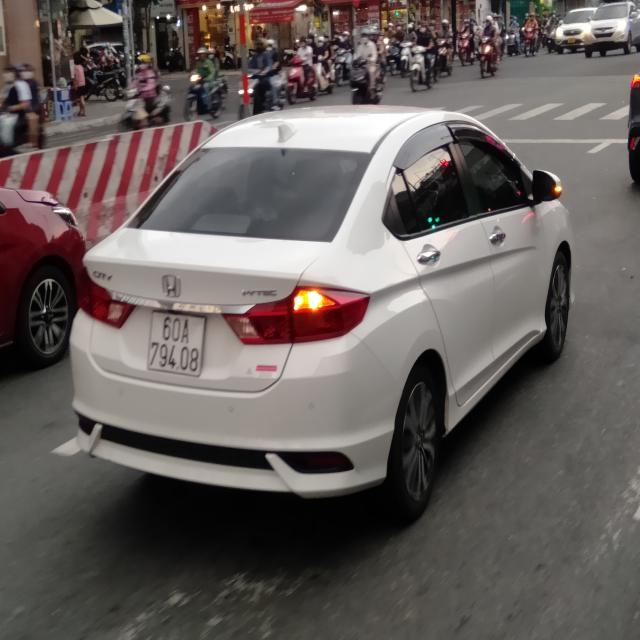bien_trang: (146, 311, 204, 377)
